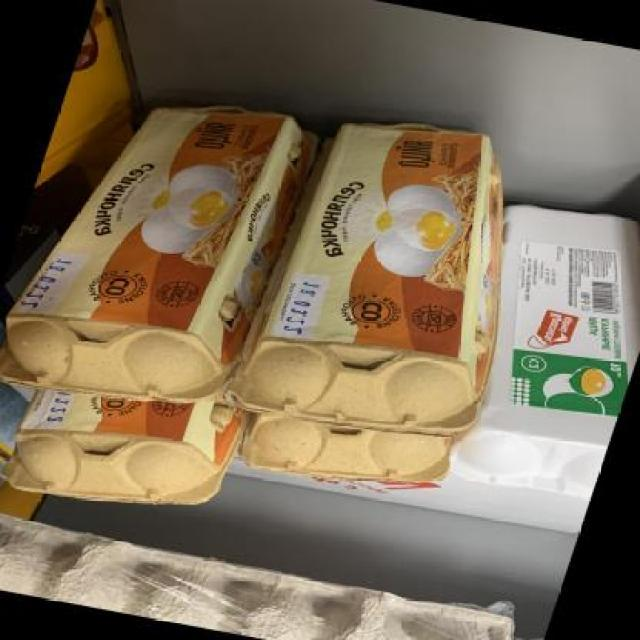Egg: (221, 106, 554, 453), (0, 77, 331, 423), (423, 196, 640, 509), (0, 382, 234, 520), (250, 409, 454, 501)
